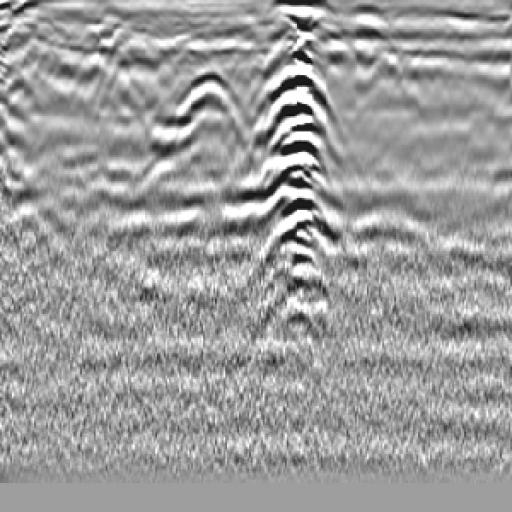metalic: (258, 12, 341, 308)
nonmetalic: (153, 73, 267, 176)
